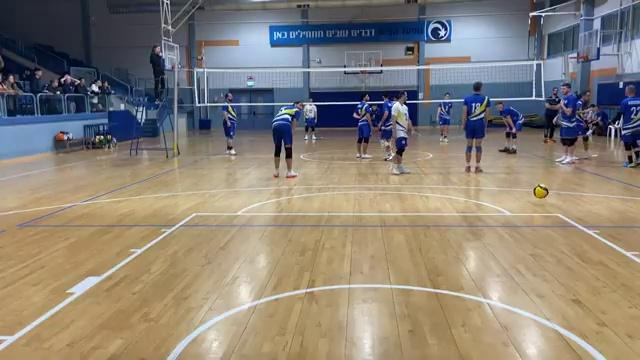ball: (530, 179, 551, 200)
